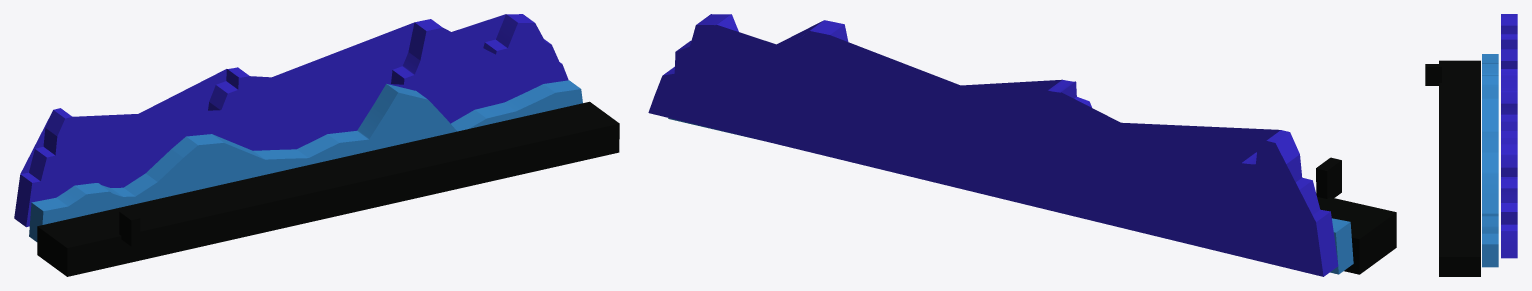
The model's file is testModel.dae.
3 renders of one model, left to right at view 1: azimuth 30°, elevation 25°; view 2: azimuth 150°, elevation 25°; view 3: azimuth 270°, elevation 25°, orthographic. The views are drawn at different scales.
Visible parts, largest first — view 1: Cap_1 (×3), Ground, Midground, Cap_2, Foreground, Character; view 2: Cap_2, Cap_1, Foreground, Ground, Midground, Character; view 3: Ground, Foreground, Midground, Character.
Boxes of the visible parts, x1,y1,x2,y2 form: Cap_1 (×3): (26,23,619,276); Ground: (37,101,619,276); Midground: (29,80,580,241); Cap_2: (20,14,505,173); Foreground: (14,14,561,226); Character: (119,209,139,246); Cap_2: (648,25,1323,276); Cap_1: (777,21,1280,181); Foreground: (663,14,1338,276); Ground: (1317,197,1396,274); Midground: (1332,218,1353,274); Character: (1316,157,1341,198); Ground: (1439,60,1480,276); Foreground: (1501,14,1517,258); Midground: (1482,54,1498,267); Character: (1425,64,1441,85).
Size of the model in its own units: 5322 by 1160 by 1101.
